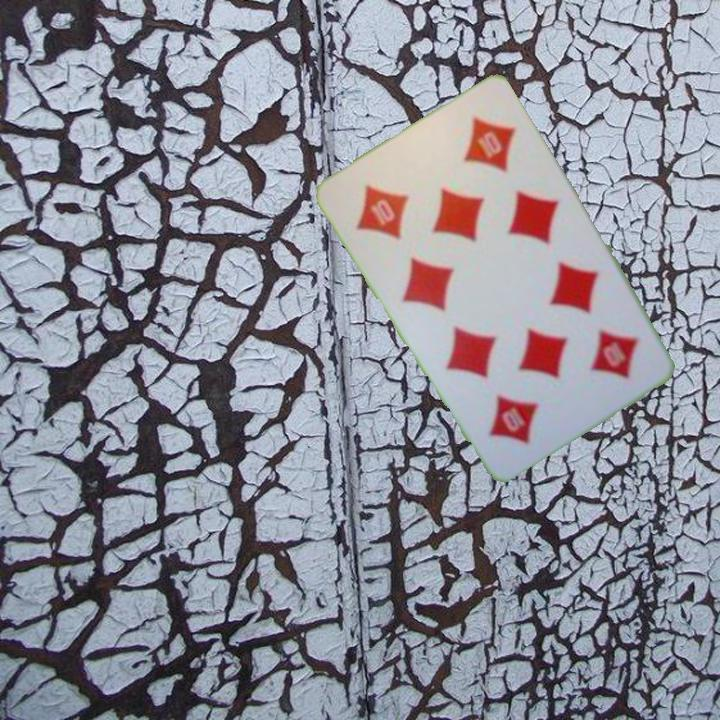d_10.png: (535, 293, 663, 417), (331, 142, 459, 265)
